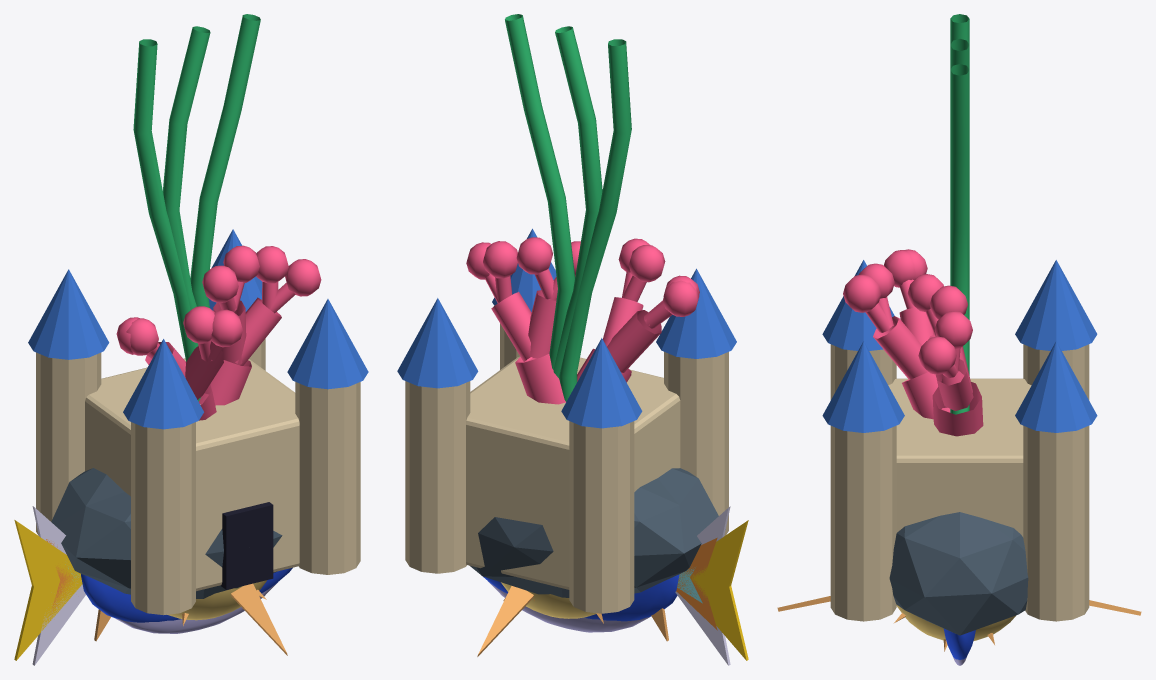
File: acuario.glb
3 renders of one model, left to right at view 1: azimuth 30°, elevation 25°; view 2: azimuth 150°, elevation 25°; view 3: azimuth 270°, elevation 25°, orthographic.
Visible parts, largest first — view 1: Castillo, Alga, Coral, RocaMar, PezCirujano, PezLuna, PezGlobo; view 2: Castillo, Alga, Coral, RocaMar, PezCirujano, PezLuna, PezGlobo, PezPayaso; view 3: Castillo, Coral, RocaMar, Alga, PezGlobo, PezCirujano.
Boxes of the visible parts, left/top/right/bottom form: Castillo: left=28, top=229, right=368, bottom=615; Alga: left=133, top=14, right=260, bottom=401; Coral: left=116, top=245, right=321, bottom=420; RocaMar: left=51, top=468, right=282, bottom=598; PezCirujano: left=14, top=520, right=292, bottom=660; PezLuna: left=32, top=506, right=277, bottom=665; PezGlobo: left=94, top=580, right=287, bottom=655; Castillo: left=397, top=228, right=736, bottom=613; Alga: left=505, top=14, right=631, bottom=401; Coral: left=466, top=237, right=699, bottom=404; RocaMar: left=470, top=468, right=725, bottom=597; PezCirujano: left=483, top=520, right=748, bottom=660; PezLuna: left=488, top=506, right=730, bottom=665; PezGlobo: left=477, top=582, right=668, bottom=656; PezPayaso: left=534, top=537, right=717, bottom=630; Castillo: left=822, top=260, right=1097, bottom=621; Coral: left=843, top=249, right=983, bottom=436; RocaMar: left=889, top=512, right=1028, bottom=635; Alga: left=950, top=14, right=969, bottom=414; PezGlobo: left=777, top=596, right=1141, bottom=651; PezCirujano: left=943, top=628, right=975, bottom=659.
Size of the model in its own units: 1.36 by 2.45 by 1.32.
